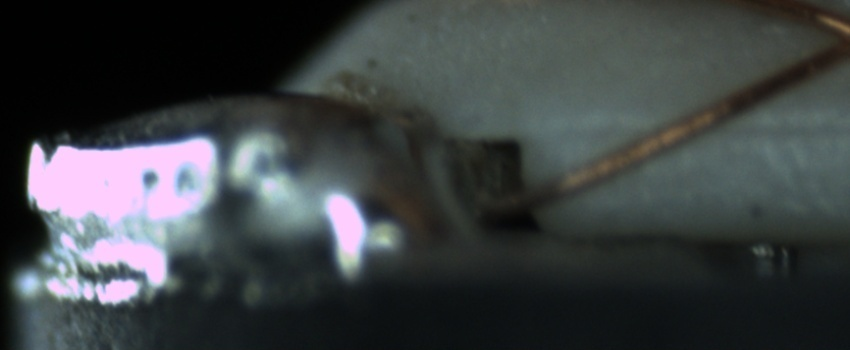CL: (804, 10, 849, 75)
DL: (554, 95, 850, 159)
